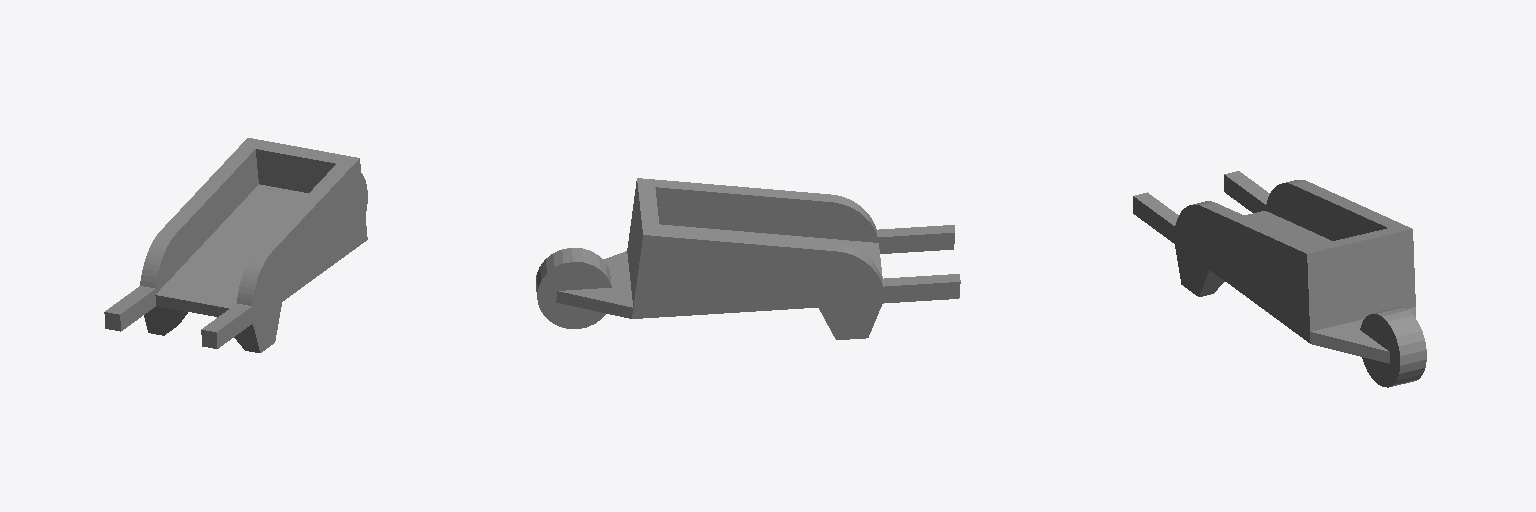
The model's file is Wheelbarrow.obj.
3 views of the same model, side by side, from view 1: azimuth 30°, elevation 25°; view 2: azimuth 150°, elevation 25°; view 3: azimuth 270°, elevation 25° (orthographic).
Parts seen in each view (by area): view 1: Wheelbarrow_Monopoly.004; view 2: Wheelbarrow_Monopoly.004; view 3: Wheelbarrow_Monopoly.004.
Boxes of the visible parts, x1,y1,x2,y2 form: Wheelbarrow_Monopoly.004: [104, 138, 367, 352]; Wheelbarrow_Monopoly.004: [536, 178, 960, 339]; Wheelbarrow_Monopoly.004: [1133, 171, 1426, 387].
Bounding box in the file's own units: 1.85 × 0.6082 × 1.36.